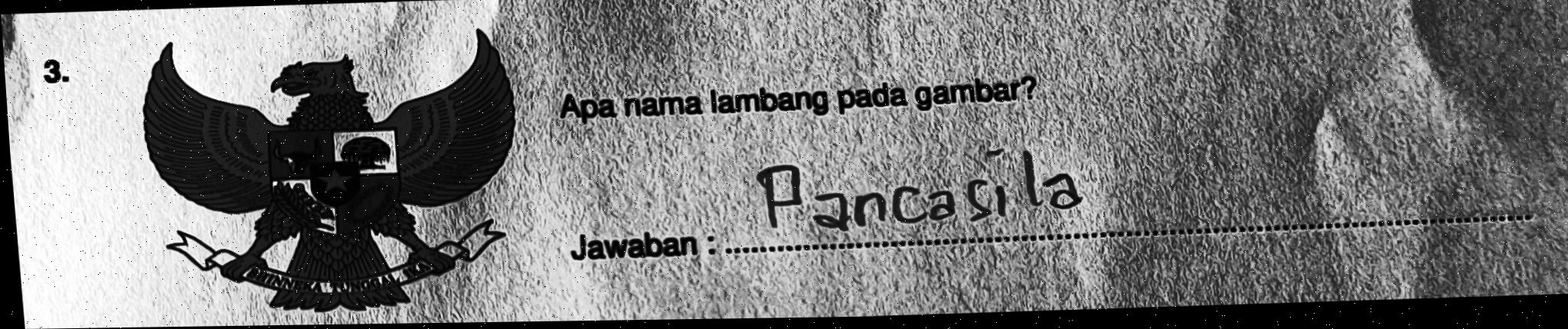jawaban: (752, 138, 1095, 234)
